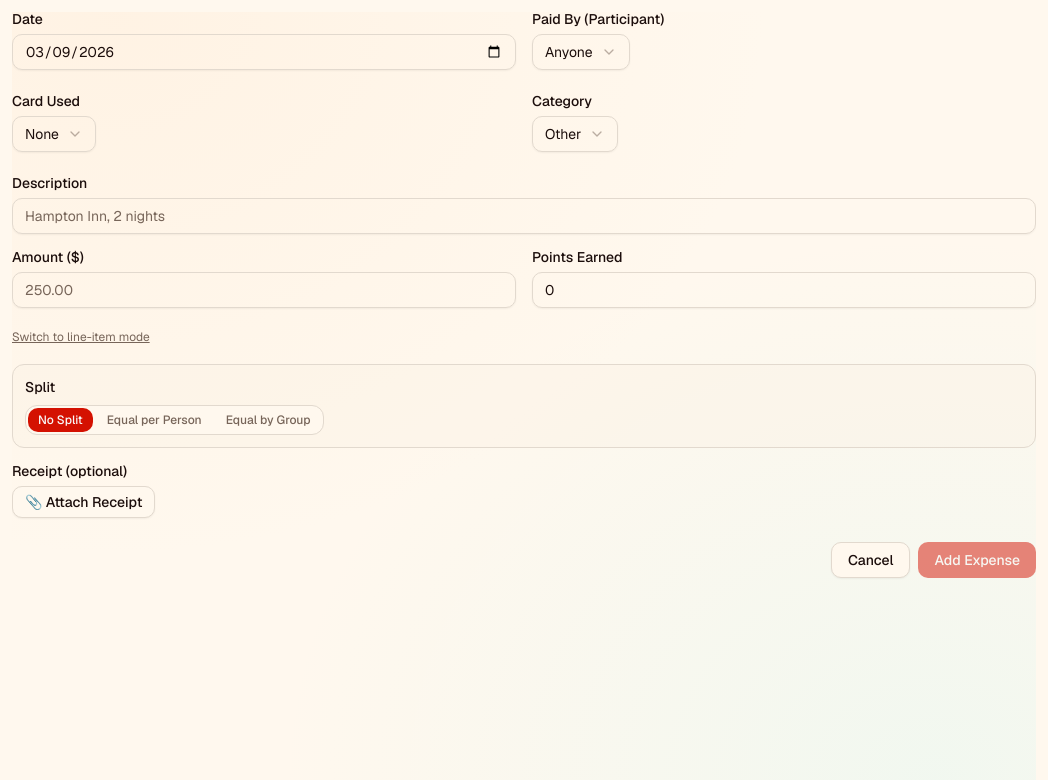
Test: Split mode UI › shows per-person breakdown text in Equal per Person mode when amount is filled
Expected: the text "Split" is shown, [25,378,55,396]
Type "100" into the number field labelled "Amount ($)" at (264, 290), box [12,272,516,308]
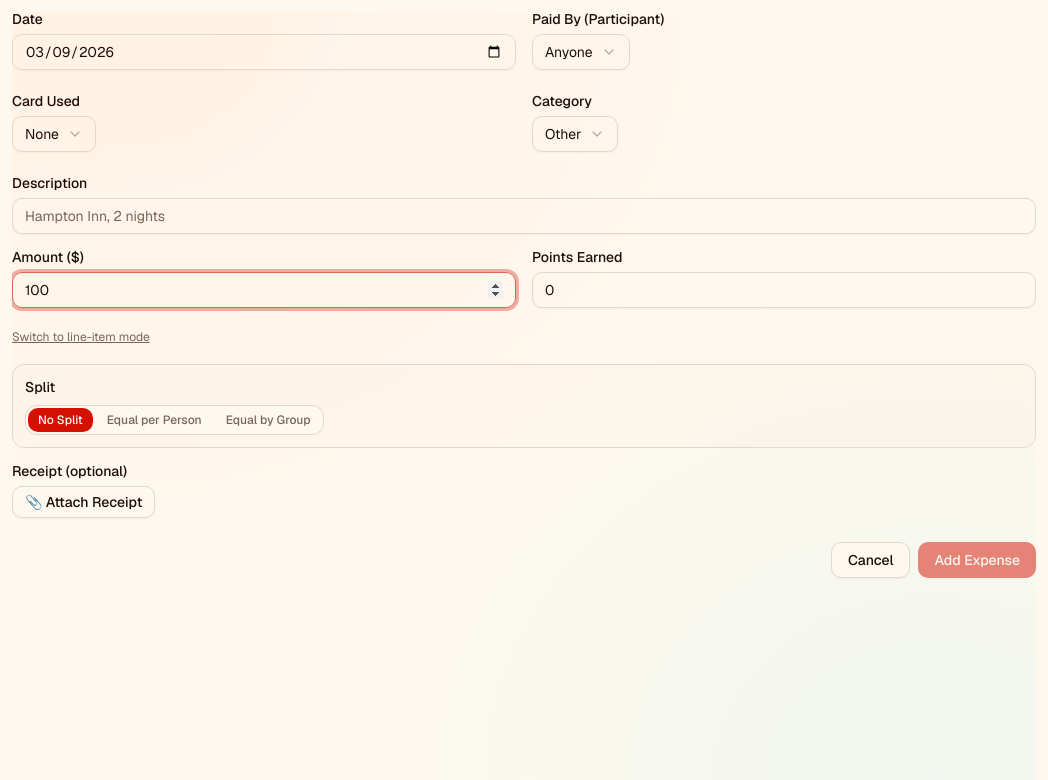
Click the button "Equal per Person" at (154, 420), box [97,408,212,432]
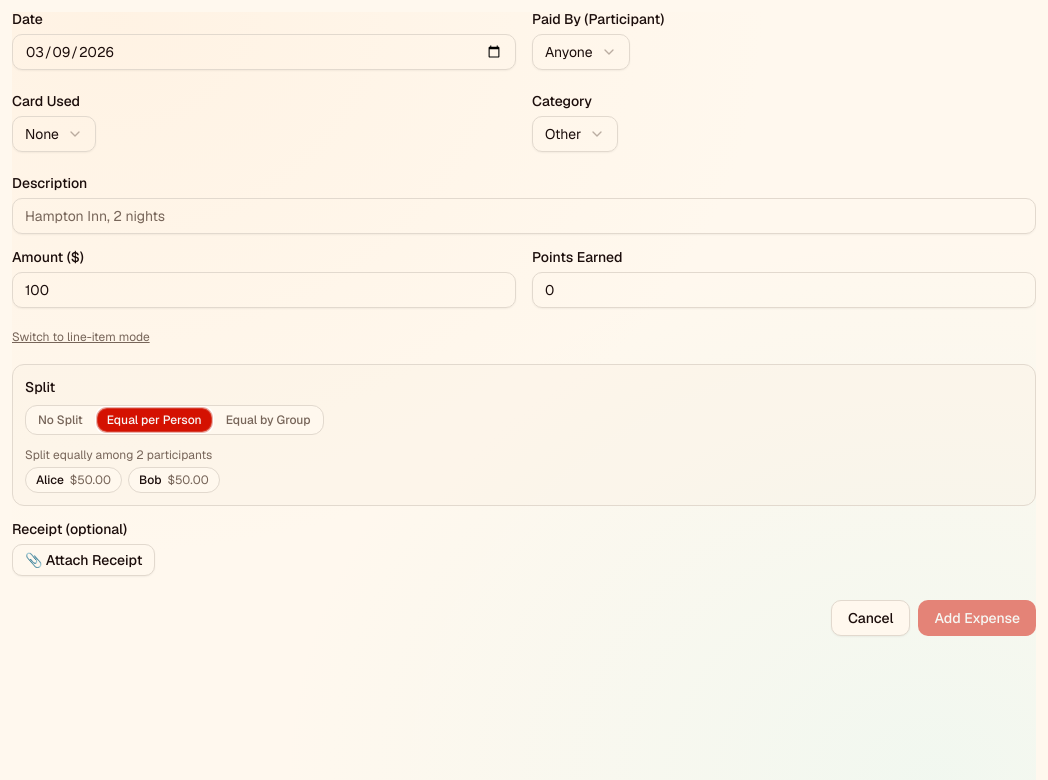
Now the text "Split equally among 2 participants" is shown, box [25,447,212,463]
